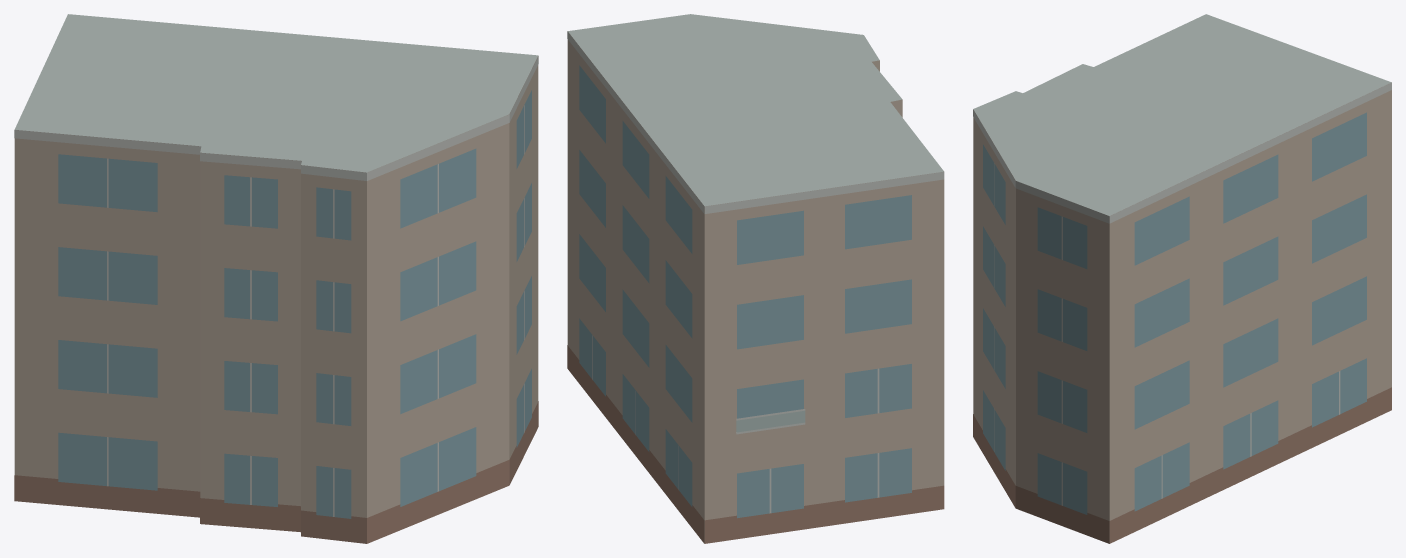
Rendered from survey-upis-32884978.glb.
The picture shows the model from 3 angles, left to right: view 1: azimuth 30°, elevation 25°; view 2: azimuth 150°, elevation 25°; view 3: azimuth 270°, elevation 25°; orthographic projection. The views are drawn at different scales.
Parts seen in each view (by area): view 1: survey-upis-32884978.tmp; view 2: survey-upis-32884978.tmp; view 3: survey-upis-32884978.tmp.
Boxes of the visible parts, x1=… form: survey-upis-32884978.tmp: x1=14, y1=14, x2=538, y2=543; survey-upis-32884978.tmp: x1=567, y1=14, x2=944, y2=543; survey-upis-32884978.tmp: x1=973, y1=14, x2=1391, y2=543.
Bounding box in the file's own units: 13.89 × 10.5 × 12.17.
